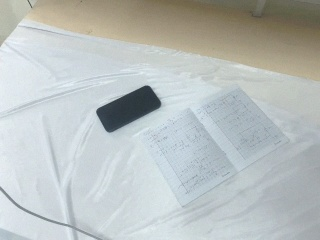phone: (95, 85, 162, 133)
